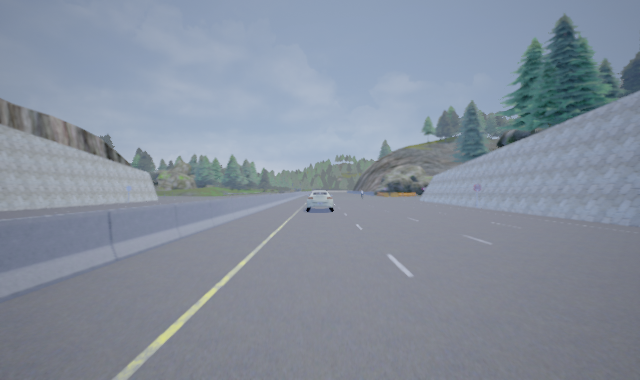vehicle: (305, 190, 334, 212)
